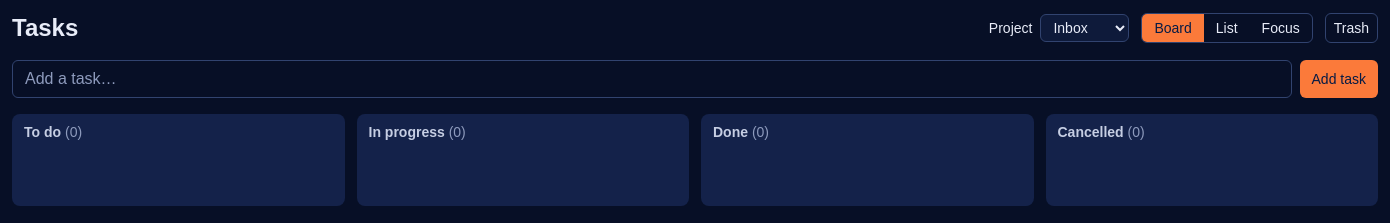
it: deleting and restoring › says so when the trash is empty
Click the button "Trash": (1351, 28) [1325,13,1378,43]
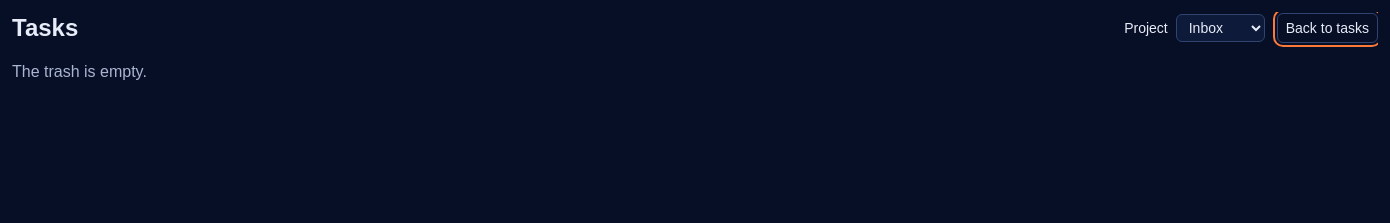
Expected: the text "The trash is empty." is shown, [12,63,147,80]
